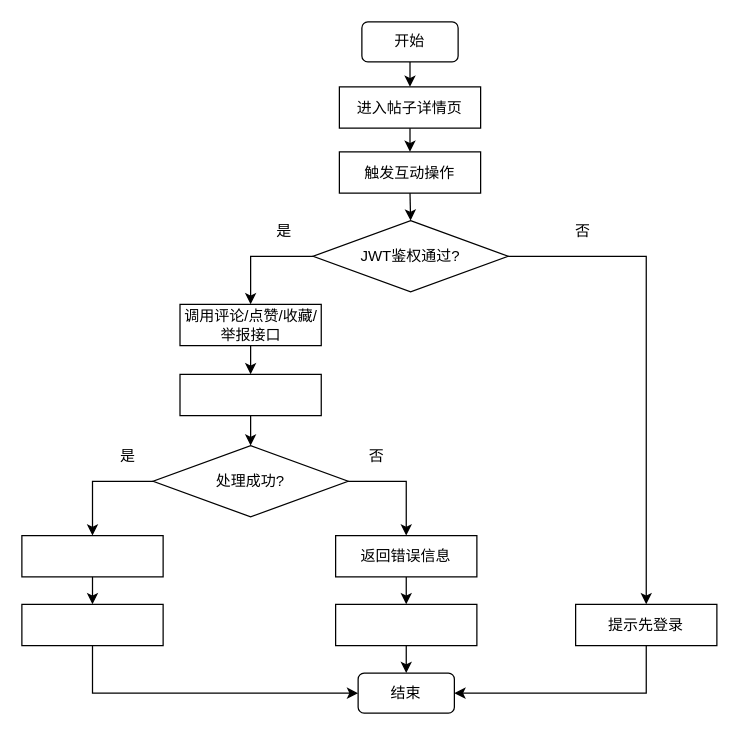
Image size: 739x735. Some labels were removed from this diagram. Each missing label, with the box of its shape:
前端刷新互动状态: (21, 603, 163, 646)
前端提示失败: (334, 603, 477, 646)
后端写入互动记录: (179, 373, 321, 416)
返回最新状态与计数: (21, 534, 163, 577)
